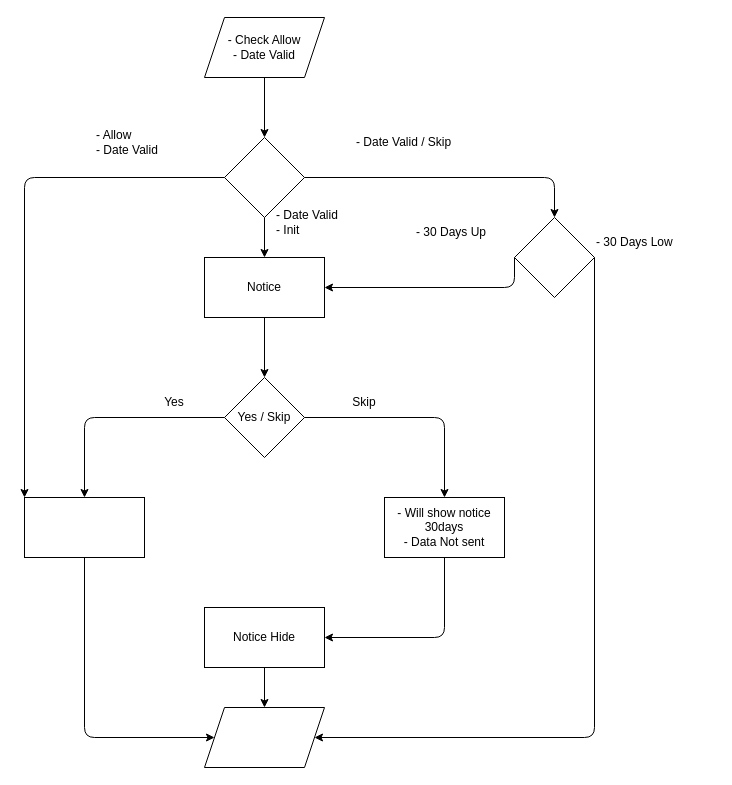
This 732x785 diagram has some shape labels left out. The shapes that lost their labels are listed below. From the top down, each one's centre as x and y in pixels, then its label:
At pixel 554 257: "Check Date".
At pixel 84 527: "- Data Sent - Date Init for Next".
At pixel 264 737: "End".
